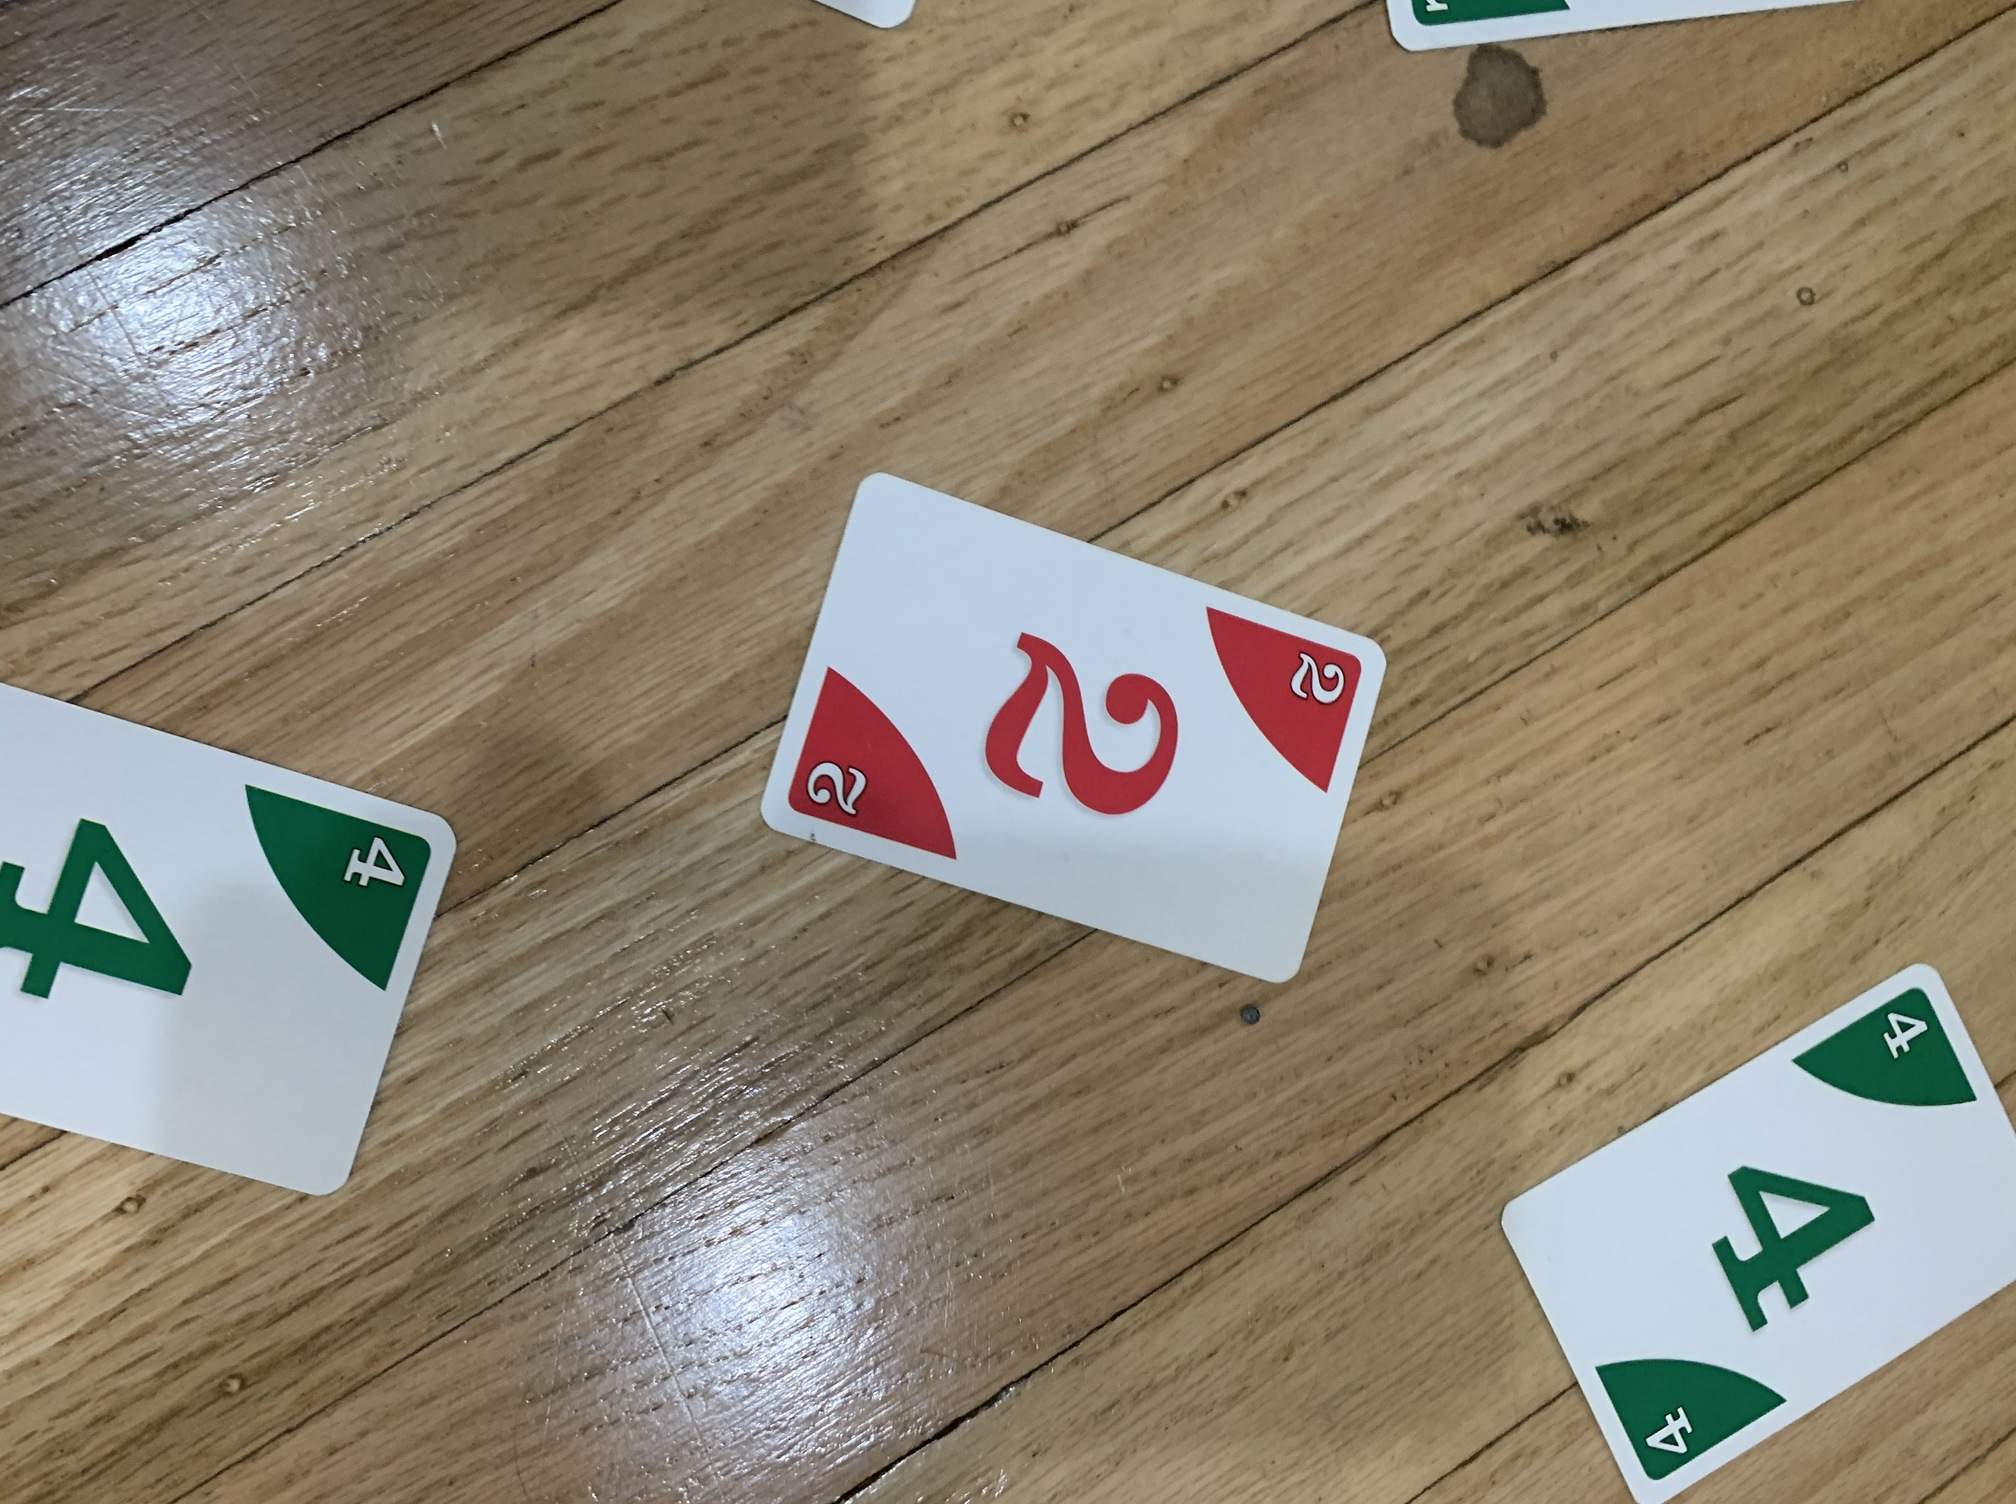four: (1480, 956, 2016, 1493)
two: (754, 464, 1398, 1006)
